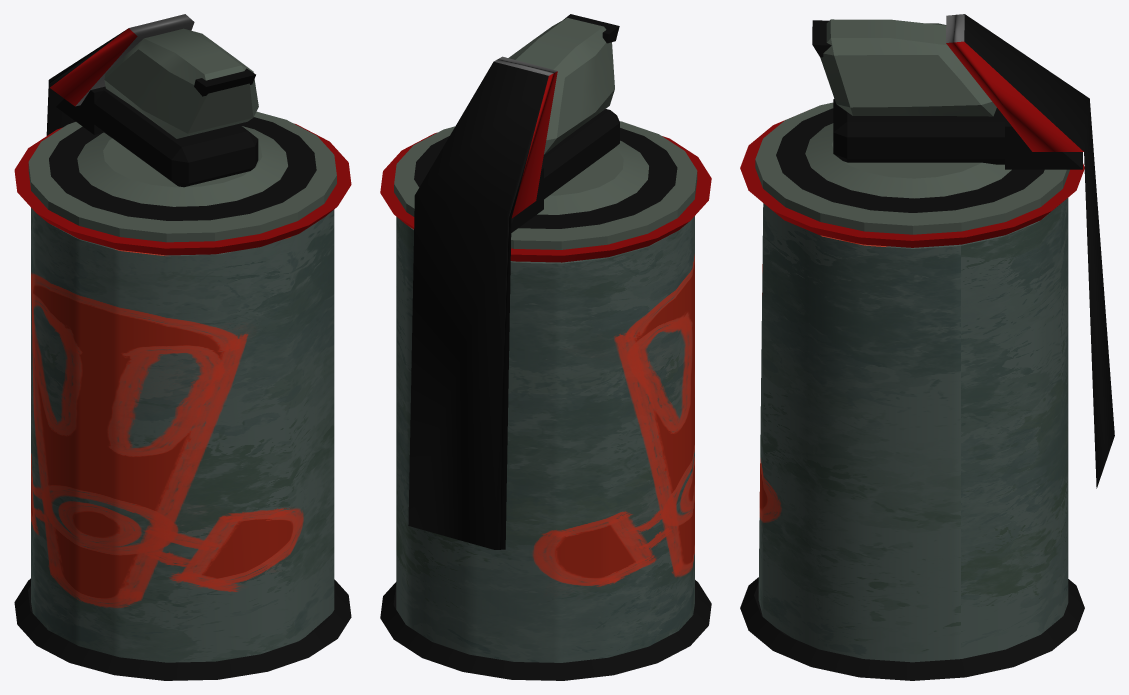
File: gas bomb 1.fbx
3 renders of one model, left to right at view 1: azimuth 30°, elevation 25°; view 2: azimuth 150°, elevation 25°; view 3: azimuth 270°, elevation 25°, orthographic. The views are drawn at different scales.
Visible parts, largest first — view 1: polySurface18; view 2: polySurface18; view 3: polySurface18.
Boxes of the visible parts, left/top/right/bottom form: polySurface18: left=14, top=14, right=351, bottom=680; polySurface18: left=380, top=14, right=711, bottom=680; polySurface18: left=740, top=14, right=1114, bottom=680.
Size of the model in its own units: 5.36 by 9.96 by 5.83.
5 materials, 1 textured.
